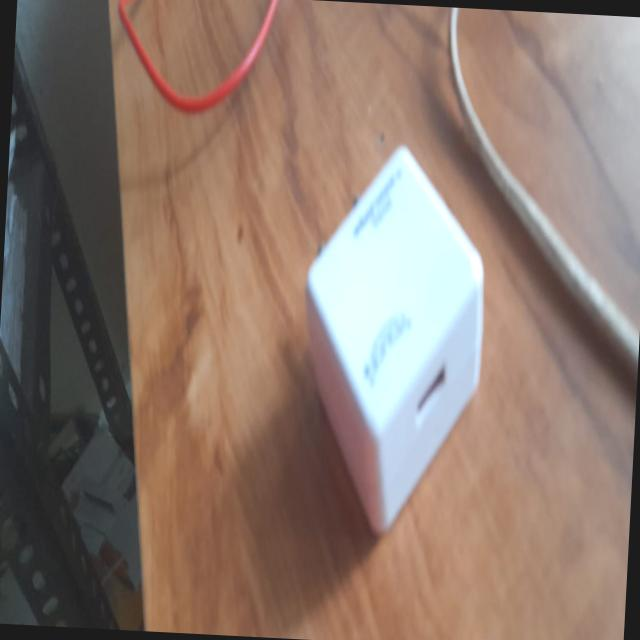Charger - Recyclable: (291, 136, 493, 542)
